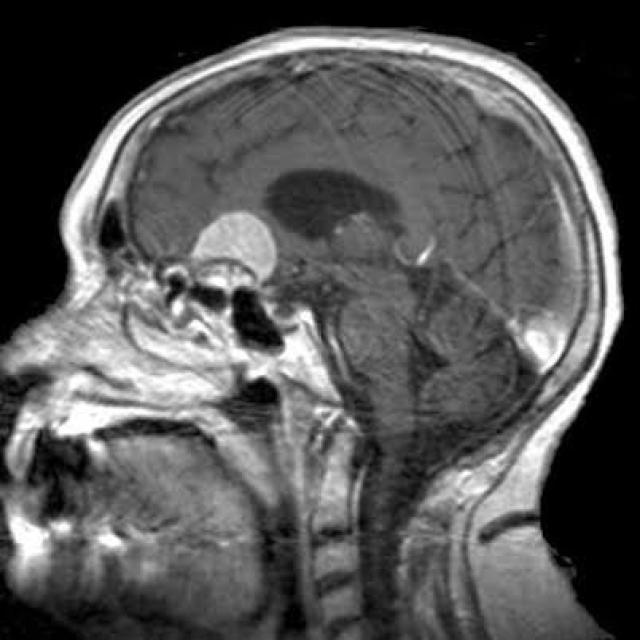brain_tumor: (190, 212, 275, 308)
